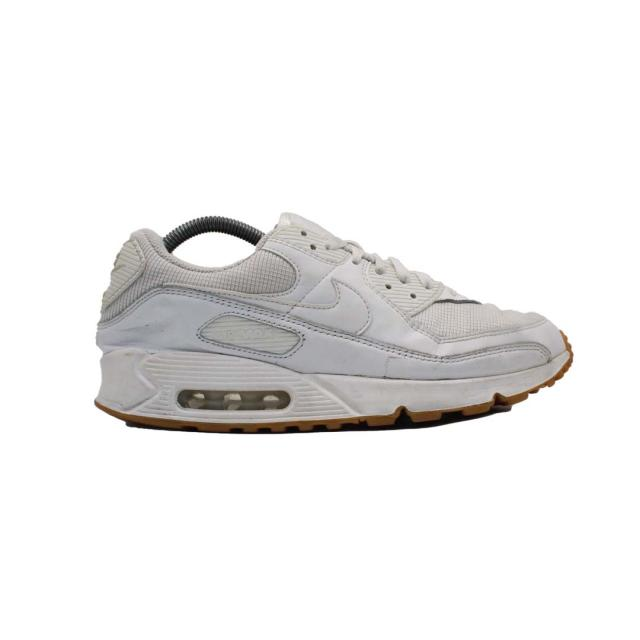heel: (95, 229, 162, 348)
midsole: (96, 342, 572, 430)
uppersole: (144, 219, 564, 384)
